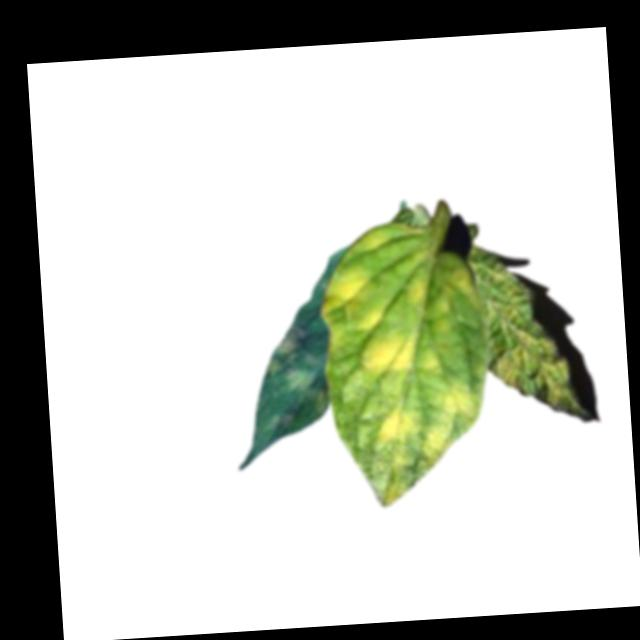Leaf_Mold: (464, 239, 580, 415), (373, 405, 460, 508), (264, 320, 328, 415), (360, 324, 452, 382), (316, 269, 393, 334), (405, 271, 459, 317), (442, 374, 482, 422)
